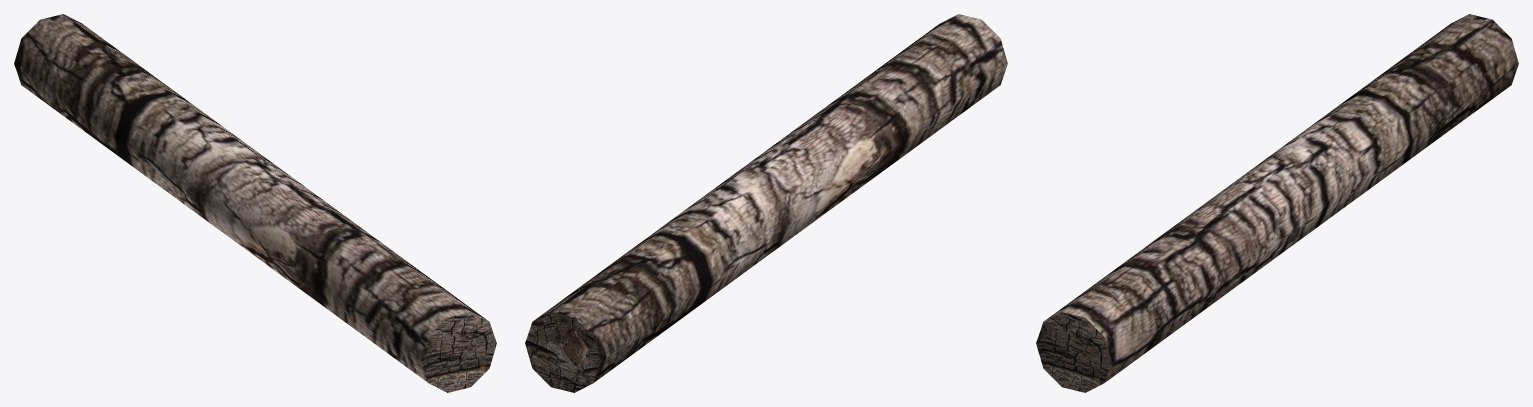
The model's file is fire wood.fbx.
The picture shows the model from 3 angles, left to right: view 1: azimuth 30°, elevation 25°; view 2: azimuth 150°, elevation 25°; view 3: azimuth 330°, elevation 25°; orthographic projection.
Parts seen in each view (by area): view 1: pCylinder3; view 2: pCylinder3; view 3: pCylinder3.
Part boxes in pixels (x1=…): pCylinder3: x1=14, y1=14, x2=496, y2=392; pCylinder3: x1=525, y1=14, x2=1007, y2=392; pCylinder3: x1=1036, y1=14, x2=1518, y2=392.
Bounding box in the file's own units: 10.16 × 9.66 × 94.86.
